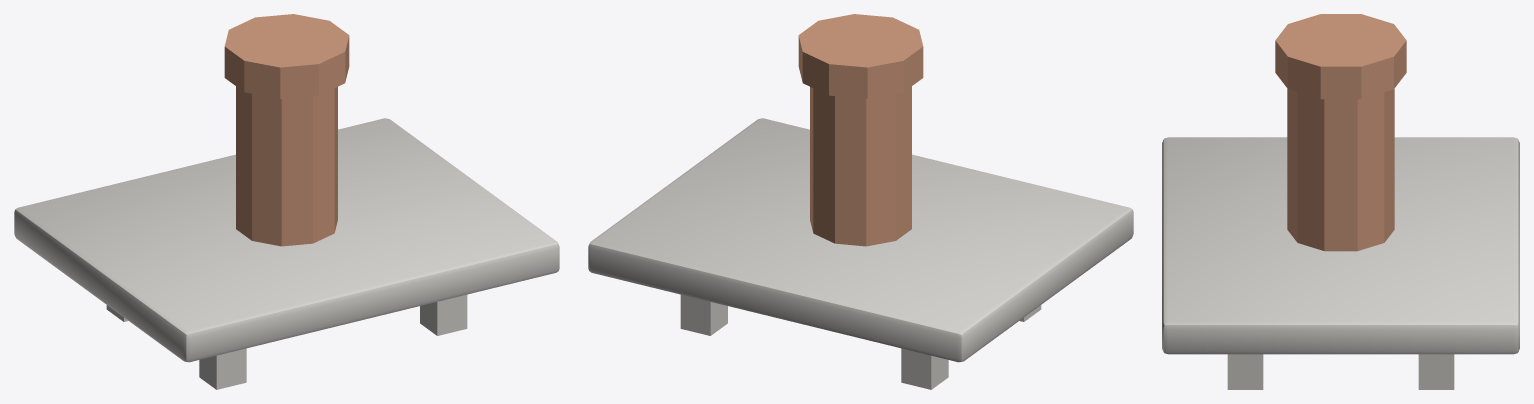
File: mitron.glb
3 renders of one model, left to right at view 1: azimuth 30°, elevation 25°; view 2: azimuth 150°, elevation 25°; view 3: azimuth 270°, elevation 25°, orthographic. The views are drawn at different scales.
Visible parts, largest first — view 1: mitron; view 2: mitron; view 3: mitron.
Boxes of the visible parts, left/top/right/bottom form: mitron: left=14, top=14, right=559, bottom=389; mitron: left=588, top=14, right=1133, bottom=389; mitron: left=1162, top=14, right=1519, bottom=389.
Bounding box in the file's own units: 0.75 × 0.53 × 0.6.
